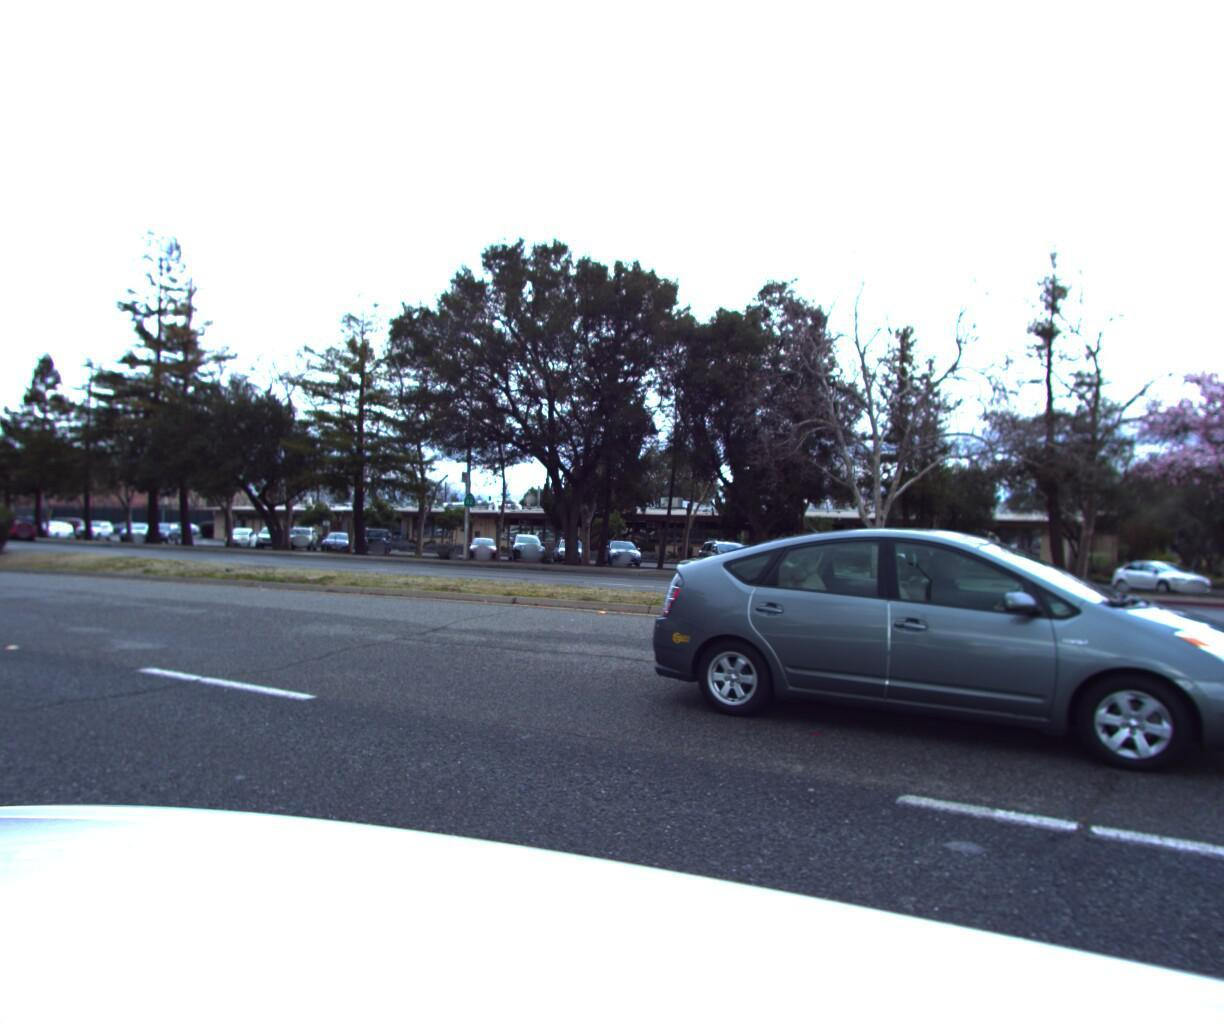car: (599, 517, 1224, 822), (0, 520, 42, 549)
